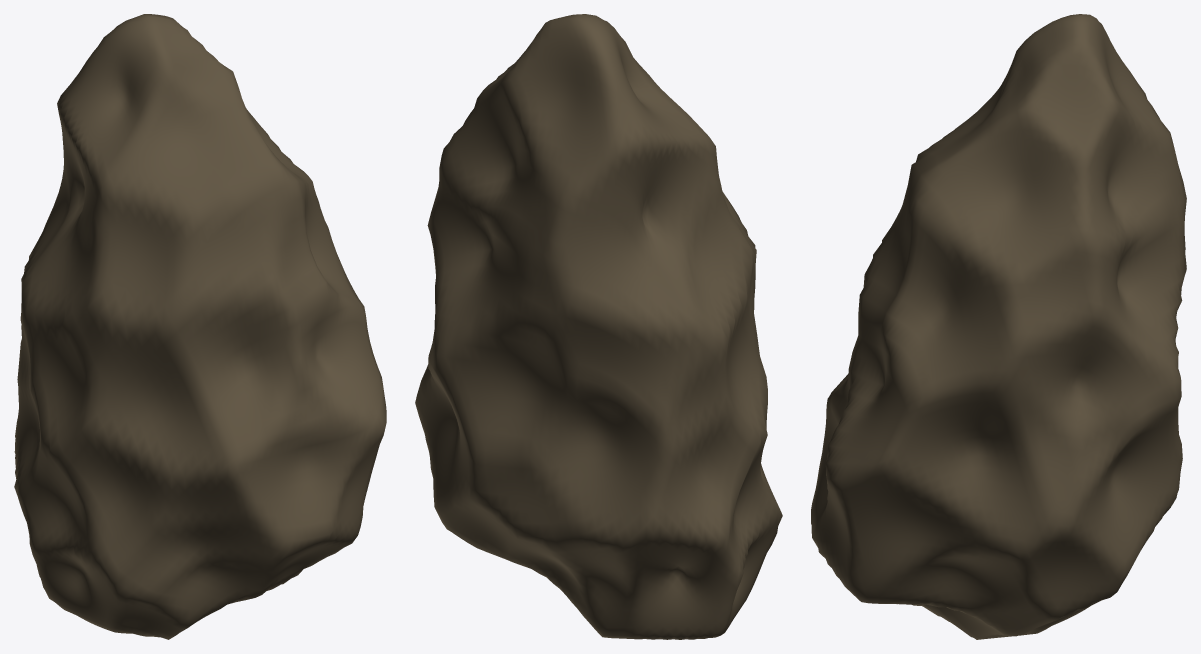
File: rock-01.fbx
3 views of the same model, side by side, from view 1: azimuth 30°, elevation 25°; view 2: azimuth 150°, elevation 25°; view 3: azimuth 270°, elevation 25° (orthographic). The views are drawn at different scales.
Visible parts, largest first — view 1: rock-01; view 2: rock-01; view 3: rock-01.
Part boxes in pixels (x1,y1,x2,y2): rock-01: (14,14,386,639); rock-01: (415,14,782,639); rock-01: (811,14,1186,639).
Size of the model in its own units: 55.24 by 103 by 56.33.
